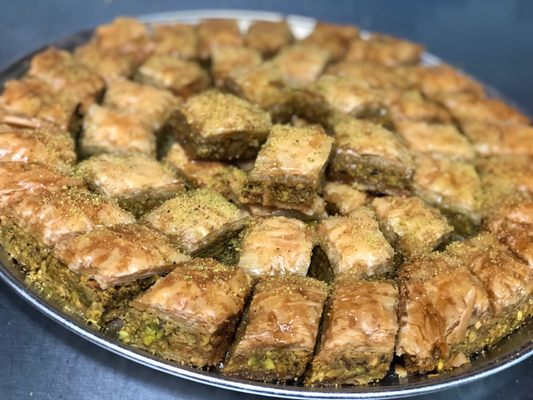soup: (220, 274, 330, 386)
